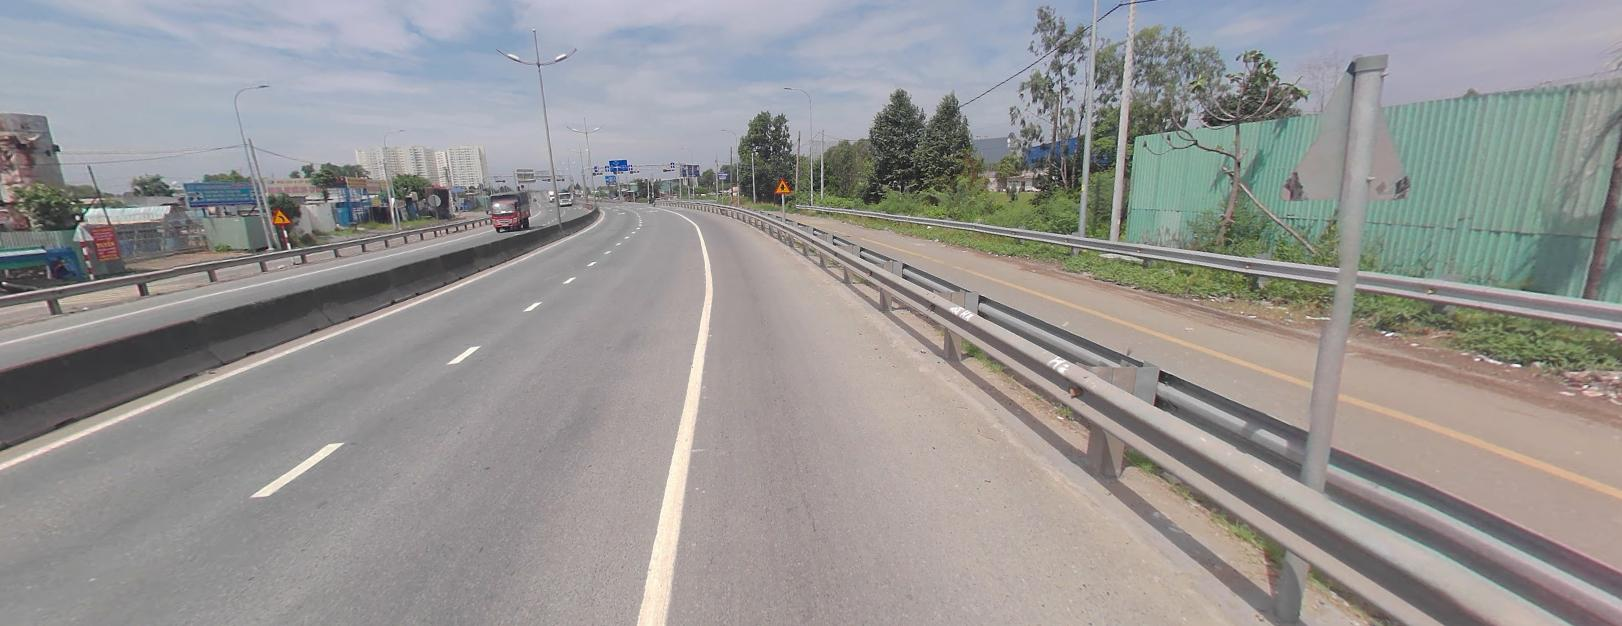Nguy hiem: (774, 175, 791, 191)
